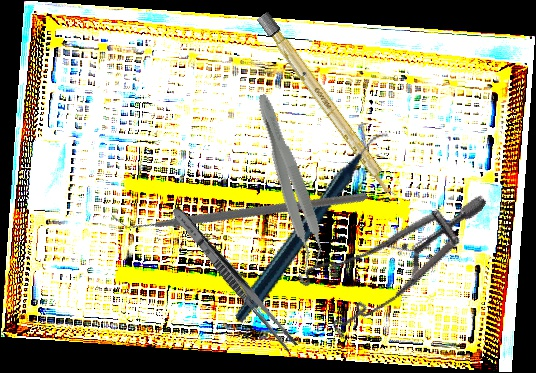Chopper: (110, 81, 369, 330)
Dressing Forceps: (167, 203, 301, 354)
Handpiece: (196, 130, 429, 325)
Scalpel Handle: (256, 11, 400, 201)
Speculum: (281, 135, 489, 369)
Tissue Forceps: (244, 90, 333, 273)
